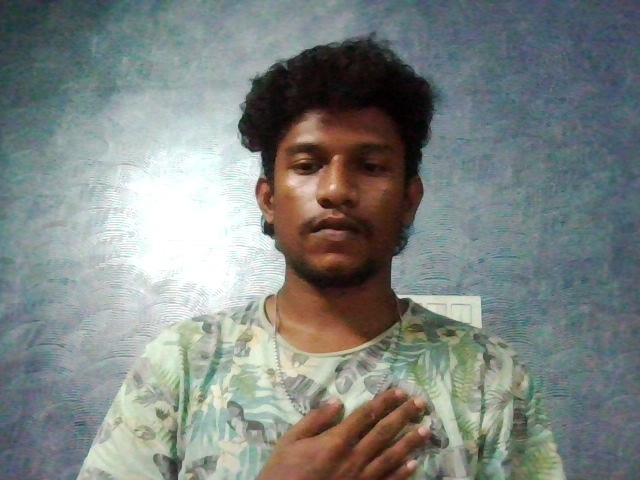please: (236, 372, 465, 480)
